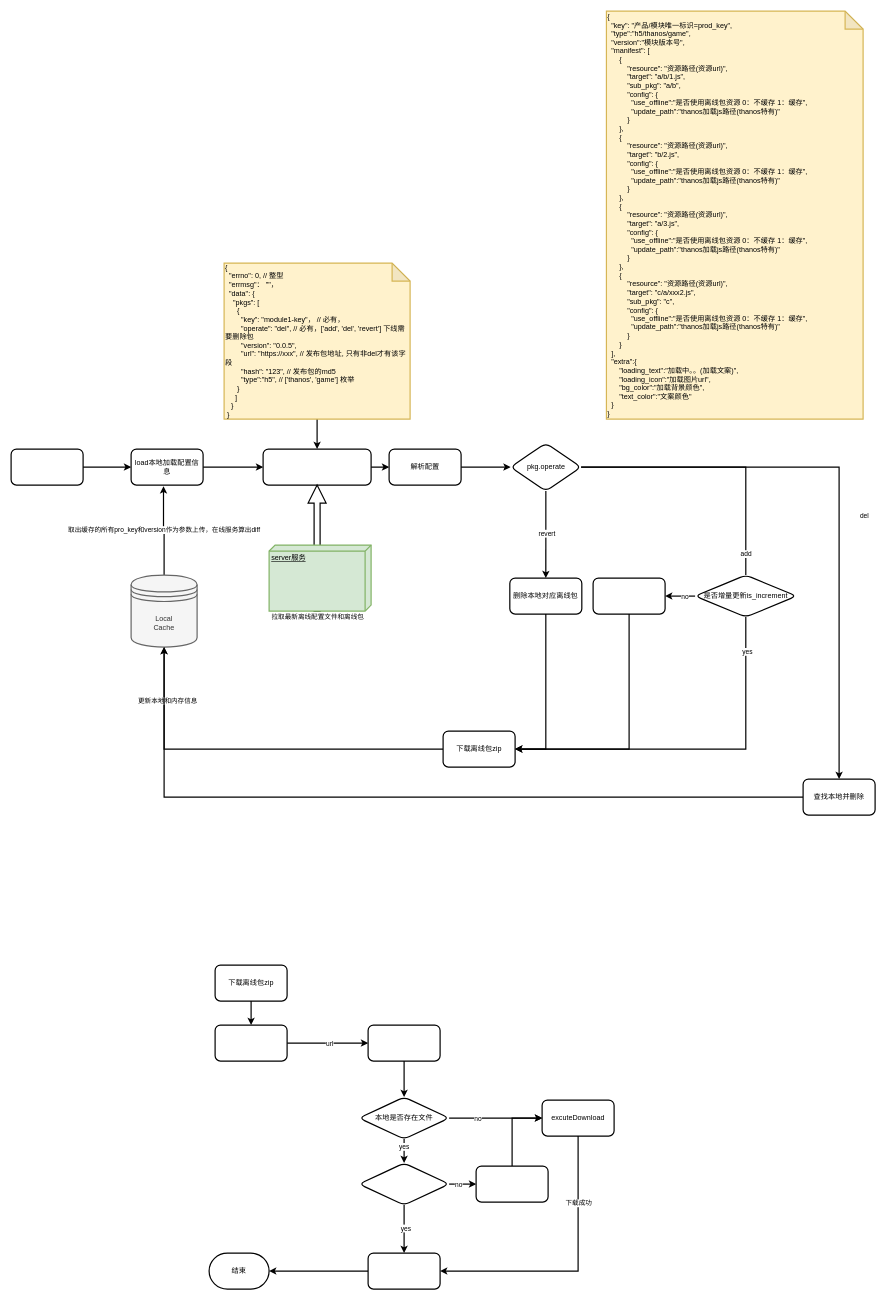
This 886x1300 diagram has some shape labels left out. Each missing label, with the centre of its shape:
App启动: the point at 46,466
downloadZip: the point at 403,1042
zip下载: the point at 250,1042
删除本地对应老离线包: the point at 628,595
删除本地文件: the point at 511,1183
检测本地文件MD5是否相同: the point at 403,1183
解压文件: the point at 403,1270
请求getUpdates接口: the point at 316,466
